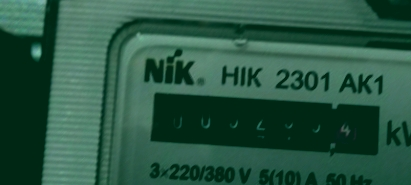0: (167, 104, 184, 130), (196, 103, 211, 129)
2: (251, 104, 266, 130)
3: (279, 104, 294, 129)
4: (336, 110, 352, 137)
5: (306, 106, 322, 134), (223, 103, 239, 130)
screen: (139, 81, 390, 162)
